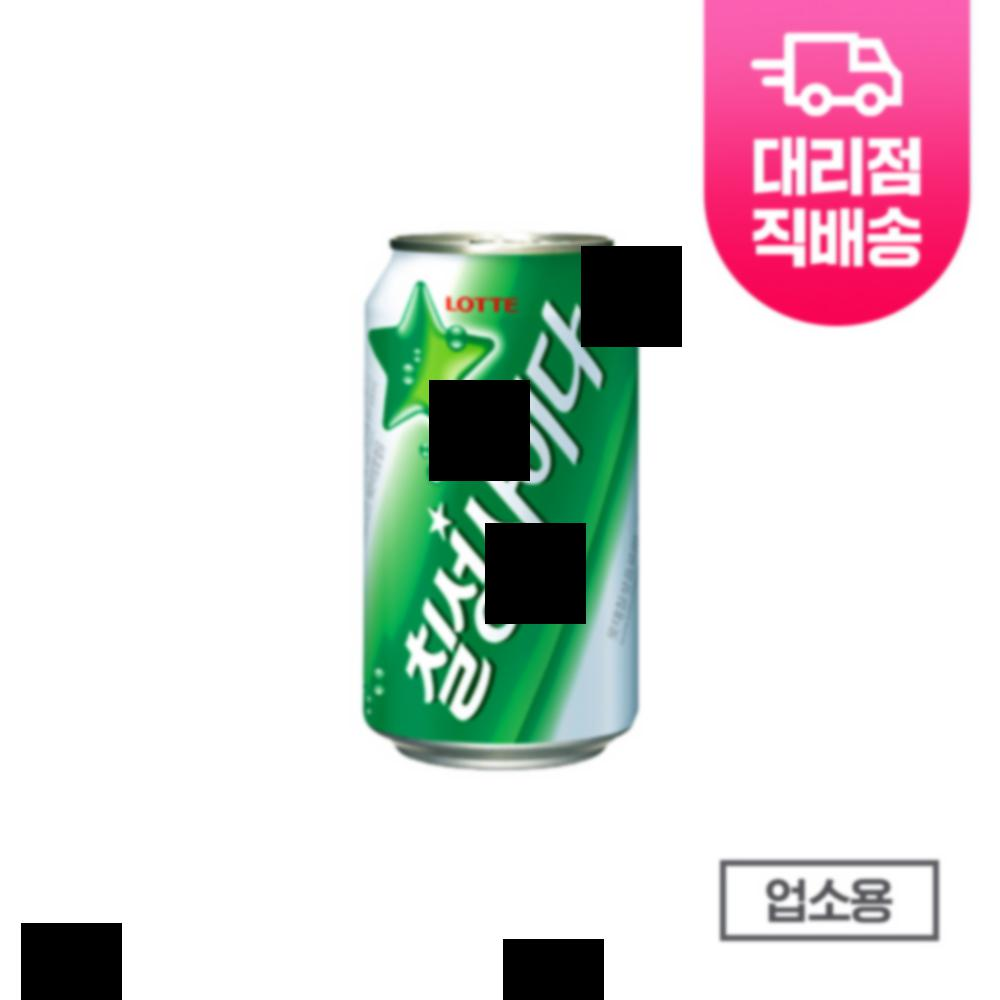chilsungcider: (348, 215, 667, 766)
